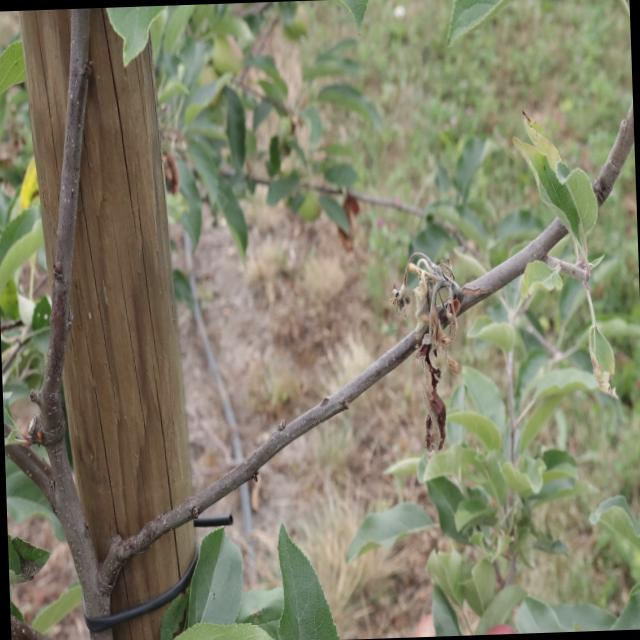-FireBlight-: (386, 242, 469, 467)
